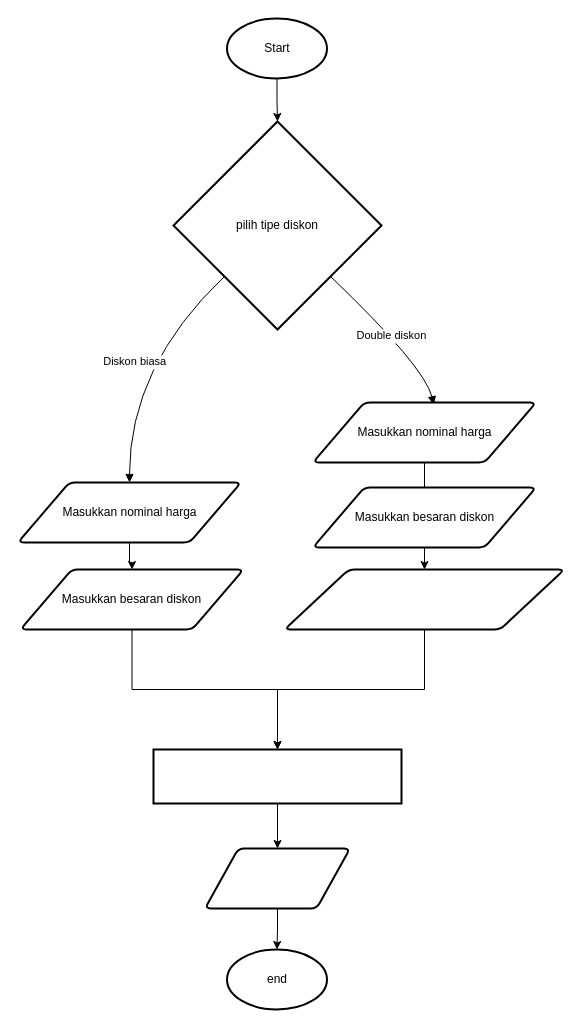
Some shapes in this 583 by 1027 pixel diagram are drawn without their labels. The box of each missing label's shape, as (x1, y1, x2, y2) in pixels:
Display Result: (204, 847, 350, 909)
Masukkan besaran diskon kedua: (283, 568, 565, 630)
Tekan Button "hitung": (152, 748, 402, 804)
